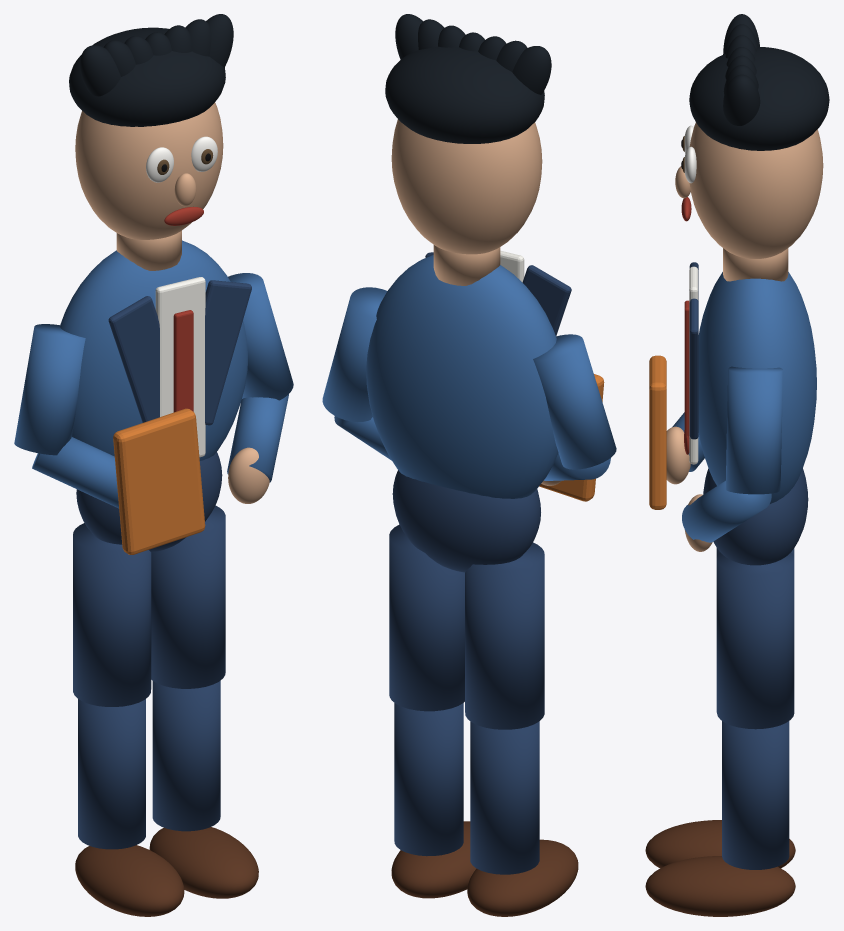
Rendered from male4.fbx.
3 views of the same model, side by side, from view 1: azimuth 30°, elevation 25°; view 2: azimuth 150°, elevation 25°; view 3: azimuth 270°, elevation 25° (orthographic). The views are drawn at different scales.
Visible parts, largest first — view 1: JacketBody, Thigh, Head, Thigh.001, Book, Shin.001, Shin, HairCap, LeftUpperArm, FormalShoe, FormalShoe.001, WhiteShirtFront (+17 smaller); view 2: JacketBody, Head, Thigh, Thigh.001, HairCap, Shin, Shin.001, Waist, LeftUpperArm, FormalShoe, RightUpperArm, FormalShoe.001 (+8 smaller); view 3: JacketBody, Thigh.001, Head, Shin.001, HairCap, RightUpperArm, FormalShoe.001, Waist, RightForearm, FormalShoe, Book, Neck (+6 smaller).
Boxes of the visible parts, bbox=[...] form: JacketBody: bbox=[59, 240, 247, 460]; Thigh: bbox=[73, 523, 151, 706]; Head: bbox=[75, 102, 223, 239]; Thigh.001: bbox=[151, 505, 225, 688]; Book: bbox=[113, 408, 205, 554]; Shin.001: bbox=[152, 680, 220, 831]; Shin: bbox=[78, 699, 145, 849]; HairCap: bbox=[69, 27, 225, 126]; LeftUpperArm: bbox=[14, 324, 85, 455]; FormalShoe: bbox=[75, 845, 184, 916]; FormalShoe.001: bbox=[149, 827, 258, 898]; WhiteShirtFront: bbox=[155, 277, 205, 457]; JacketBody: bbox=[366, 255, 558, 498]; Head: bbox=[391, 119, 542, 254]; Thigh: bbox=[465, 542, 544, 729]; Thigh.001: bbox=[389, 524, 464, 711]; HairCap: bbox=[385, 46, 544, 143]; Shin: bbox=[470, 721, 539, 874]; Shin.001: bbox=[394, 703, 463, 856]; Waist: bbox=[392, 470, 540, 572]; LeftUpperArm: bbox=[533, 334, 616, 469]; FormalShoe: bbox=[467, 839, 578, 916]; RightUpperArm: bbox=[322, 287, 387, 422]; FormalShoe.001: bbox=[391, 821, 476, 898]; JacketBody: bbox=[698, 272, 816, 503]; Thigh.001: bbox=[716, 552, 794, 729]; Head: bbox=[689, 122, 823, 258]; Shin.001: bbox=[722, 721, 789, 869]; HairCap: bbox=[689, 47, 829, 150]; RightUpperArm: bbox=[725, 366, 782, 494]; FormalShoe.001: bbox=[645, 856, 795, 916]; Waist: bbox=[703, 468, 808, 565]; RightForearm: bbox=[682, 480, 771, 542]; FormalShoe: bbox=[645, 820, 795, 868]; Book: bbox=[649, 355, 666, 509]; Neck: bbox=[723, 248, 788, 281].
Size of the model in its own units: 126 by 373 by 73.5.
